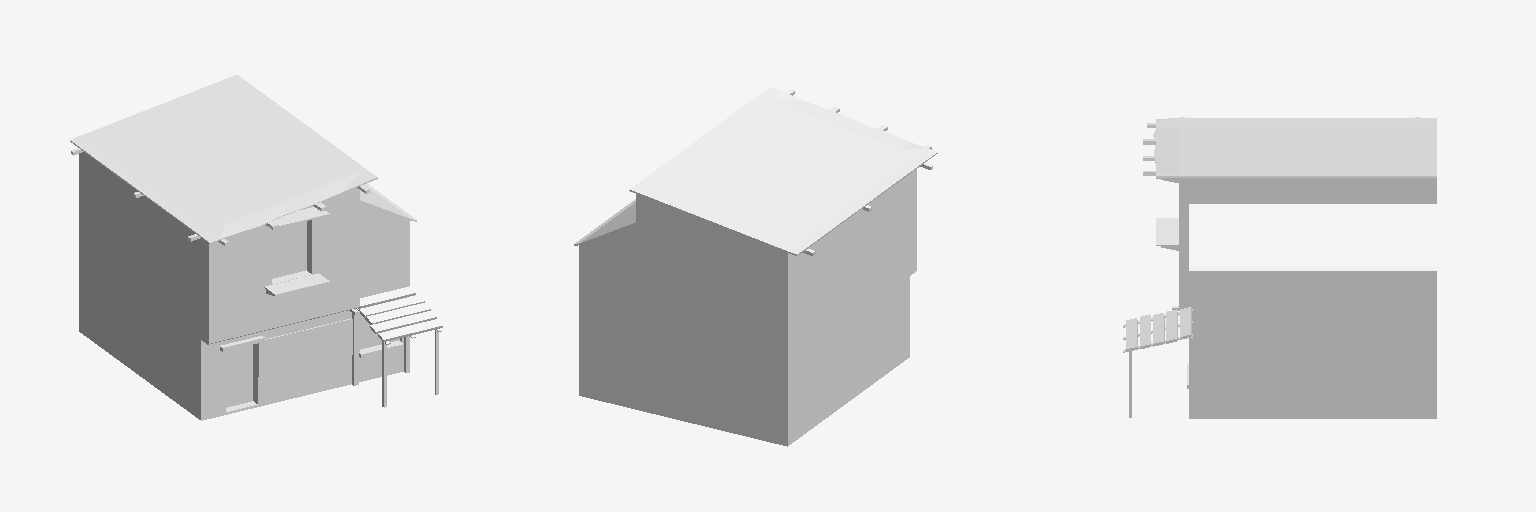
The model's file is BuildingG.obj.
3 renders of one model, left to right at view 1: azimuth 30°, elevation 25°; view 2: azimuth 150°, elevation 25°; view 3: azimuth 270°, elevation 25°, orthographic.
Visible parts, largest first — view 1: BuildingG; view 2: BuildingG; view 3: BuildingG.
Part boxes in pixels (x1,y1,x2,y2): BuildingG: (70,75,442,420); BuildingG: (574,87,937,446); BuildingG: (1123,117,1436,418).
Size of the model in its own units: 280 by 253 by 330.